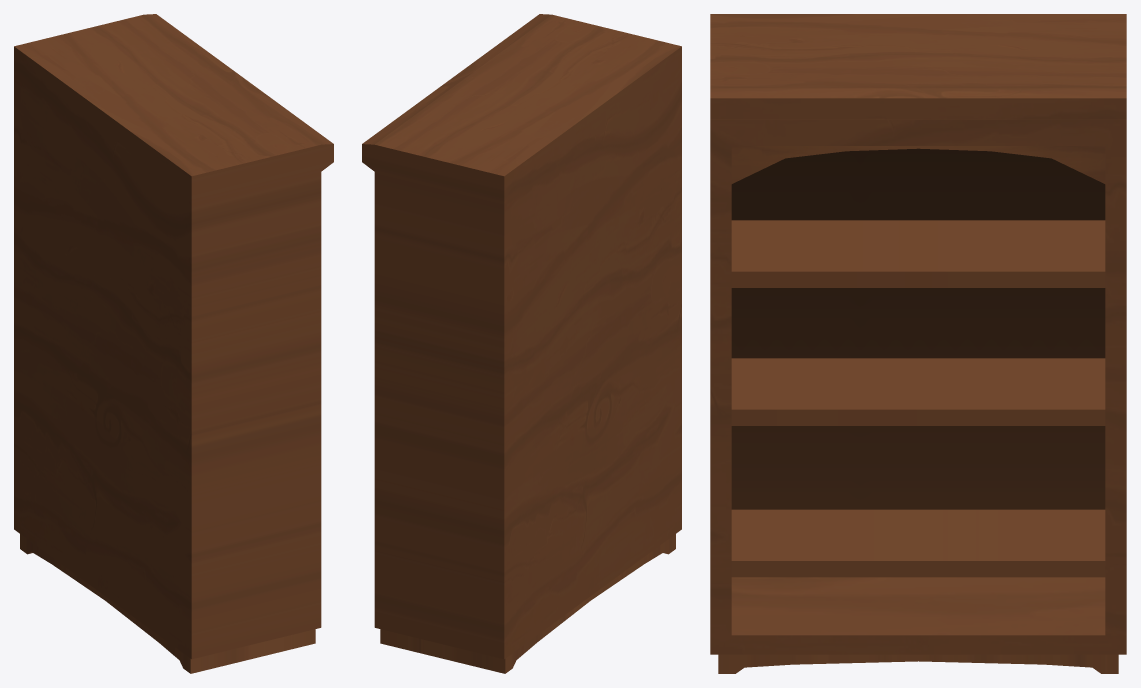
Rendered from bookshelf.fbx.
The picture shows the model from 3 angles, left to right: view 1: azimuth 30°, elevation 25°; view 2: azimuth 150°, elevation 25°; view 3: azimuth 270°, elevation 25°; orthographic projection. The views are drawn at different scales.
Parts seen in each view (by area): view 1: Cube; view 2: Cube; view 3: Cube.
Part boxes in pixels (x1,y1,x2,y2): Cube: (14,14,333,673); Cube: (362,14,681,673); Cube: (710,14,1126,673).
Size of the model in its own units: 118 by 396 by 255.
